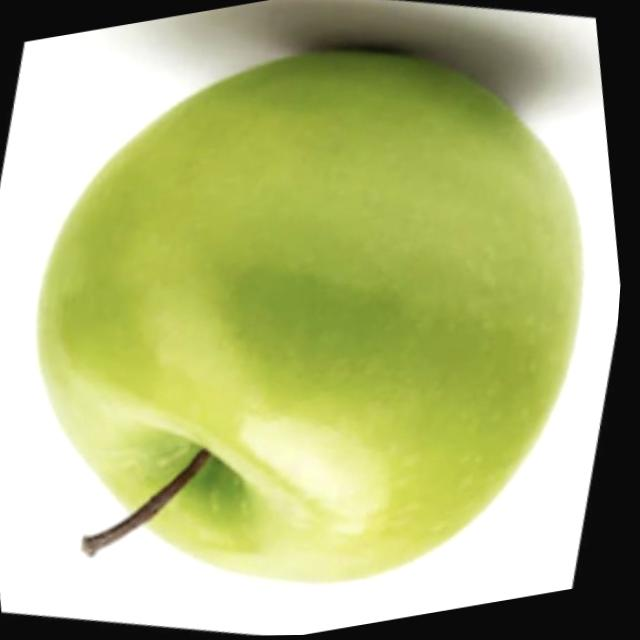Apple: (0, 8, 639, 635)
